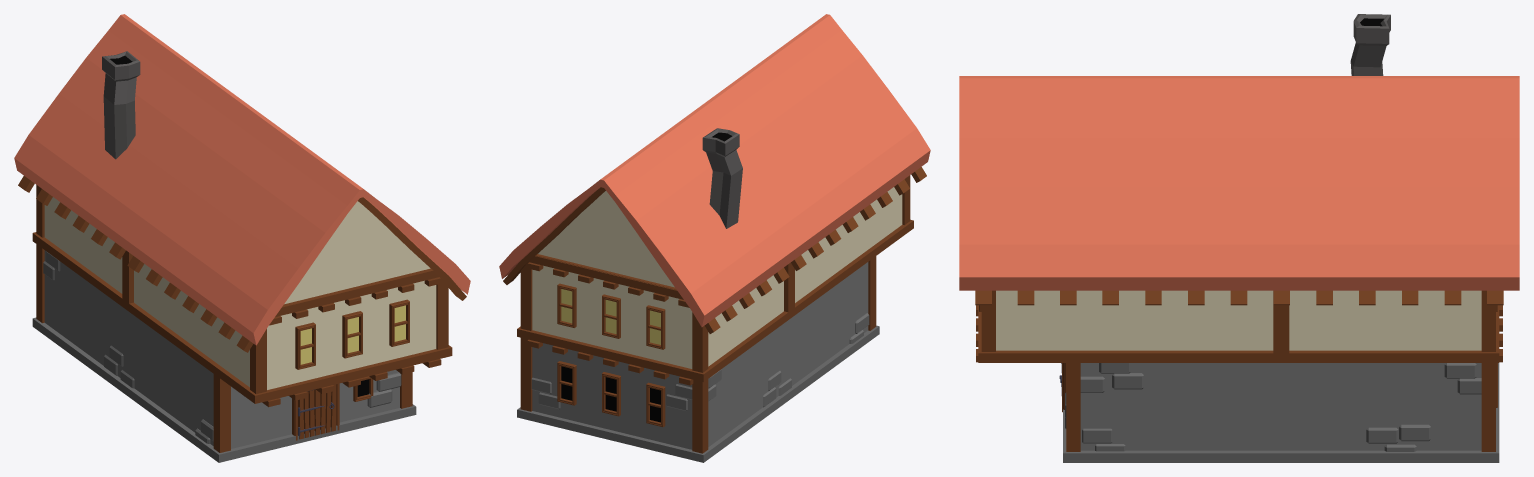
The model's file is House_City_05.fbx.
3 renders of one model, left to right at view 1: azimuth 30°, elevation 25°; view 2: azimuth 150°, elevation 25°; view 3: azimuth 270°, elevation 25°, orthographic. The views are drawn at different scales.
Parts seen in each view (by area): view 1: Roof_Long_Flat.001, Floor_Long.003, Floor_0.005, Roof_Short_Point.001, Door_Arch.002, Window_2x1.007, Window_2x1.006, Window_2x1.008; view 2: Roof_Long_Flat.001, Floor_0.005, Floor_Long.003, Roof_Short_Point.001, Window_2x1.009, Window_2x1.014, Window_2x1.011, Window_2x1.012, Window_2x1.010, Window_2x1.013; view 3: Roof_Long_Flat.001, Floor_0.005, Floor_Long.003, Roof_Short_Point.001.
Boxes of the visible parts, <box> form: Roof_Long_Flat.001: <box>14,14,470,352</box>; Floor_Long.003: <box>32,185,452,407</box>; Floor_0.005: <box>32,244,416,462</box>; Roof_Short_Point.001: <box>102,51,140,159</box>; Door_Arch.002: <box>292,383,339,440</box>; Window_2x1.007: <box>342,311,362,358</box>; Window_2x1.006: <box>389,299,409,346</box>; Window_2x1.008: <box>295,322,315,369</box>; Roof_Long_Flat.001: <box>499,14,930,333</box>; Floor_0.005: <box>517,256,879,462</box>; Floor_Long.003: <box>517,175,913,385</box>; Roof_Short_Point.001: <box>702,128,742,228</box>; Window_2x1.009: <box>646,305,665,349</box>; Window_2x1.014: <box>557,361,576,405</box>; Window_2x1.011: <box>557,283,576,327</box>; Window_2x1.012: <box>646,382,665,427</box>; Window_2x1.010: <box>602,294,620,338</box>; Window_2x1.013: <box>602,372,620,416</box>; Roof_Long_Flat.001: <box>959,76,1519,305</box>; Floor_0.005: <box>1063,363,1499,462</box>; Floor_Long.003: <box>976,290,1502,362</box>; Roof_Short_Point.001: <box>1350,14,1390,75</box>.
Size of the model in its own units: 713 by 913 by 1323.
